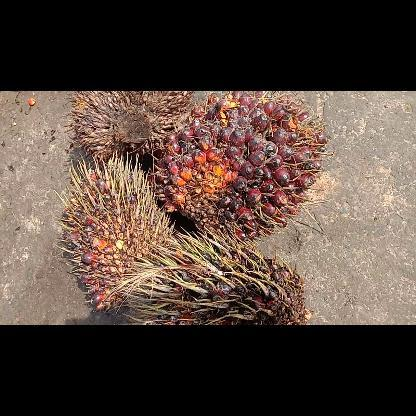Kurang masak: (106, 228, 312, 324)
TBS abnormal: (59, 156, 179, 312), (64, 91, 194, 159)
Terlalu masak: (155, 90, 323, 240)
